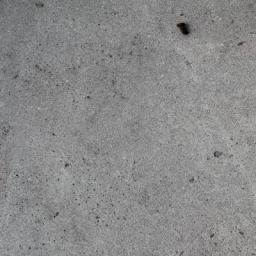FOD: (171, 20, 194, 39)
